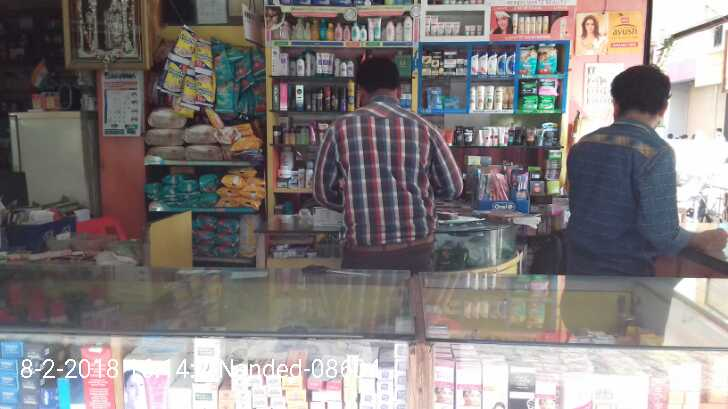venus: (429, 88, 444, 107), (444, 95, 462, 106)
